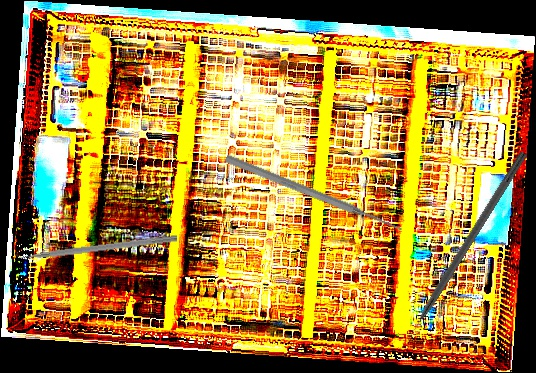Chopper: (9, 225, 178, 263)
Hook Surgical: (400, 149, 528, 344)
Pusher: (223, 152, 405, 236)
